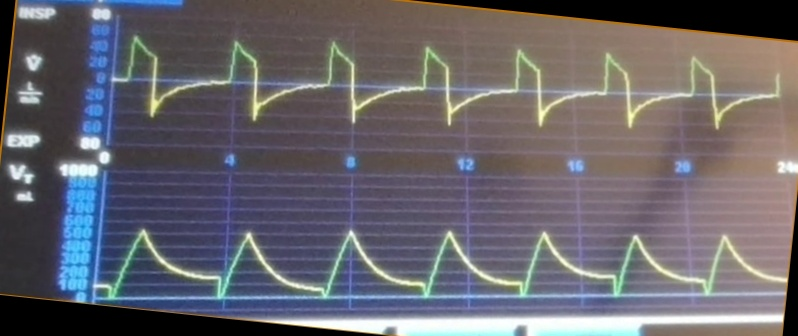Flow: (125, 36, 757, 149)
Leakage Volume: (99, 218, 782, 307)
